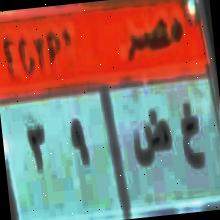3: (23, 117, 50, 180)
9: (68, 115, 94, 174)
daad: (128, 104, 176, 175)
khaa: (175, 96, 208, 180)
